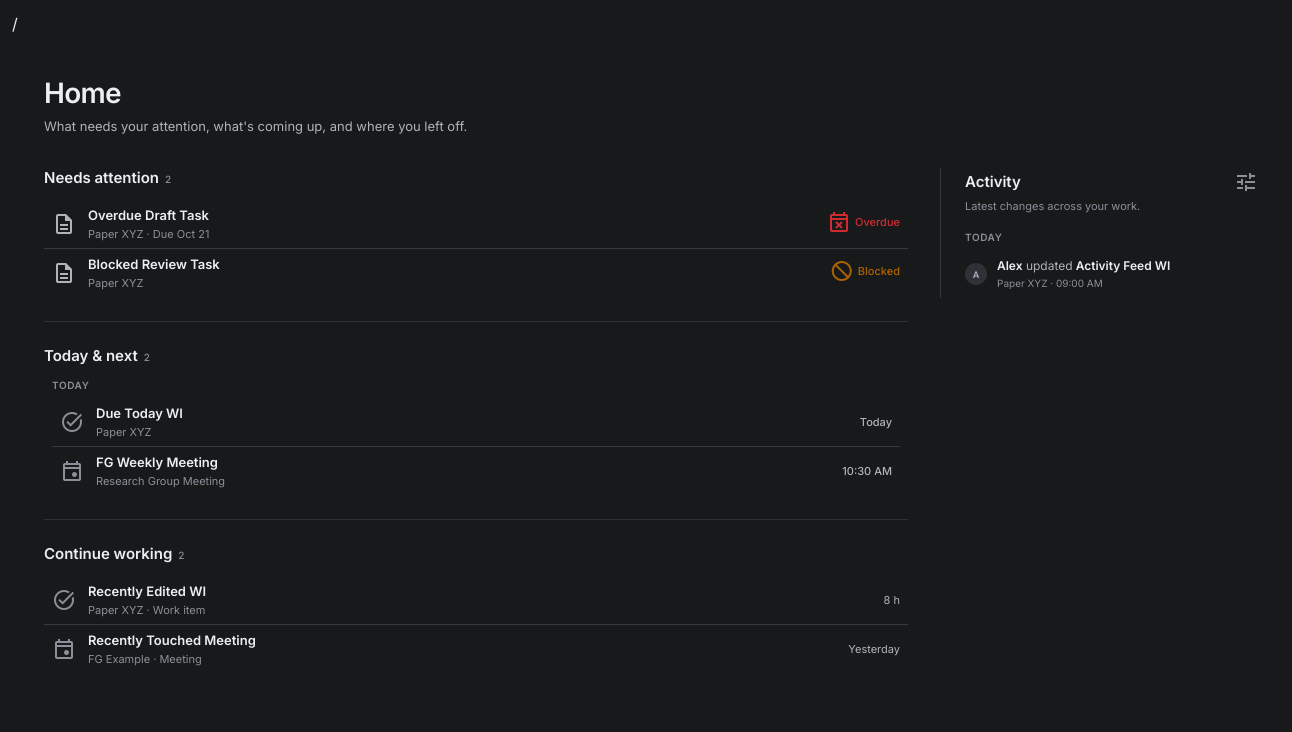
Test case: Activity independence › navigable Activity events keep their canonical targets
The width and height of the screenshot is (1292, 732).
Expected: the element showing "Alex updated Activity Feed WI" is shown, [997,258,1170,273]
What coordinates should you click on to do the following:
click the button "A Alex updated Activity Feed WI Paper XYZ · 09:00 AM"
I would click on:
 (1112, 274)
Its box is [965,250,1260,298].
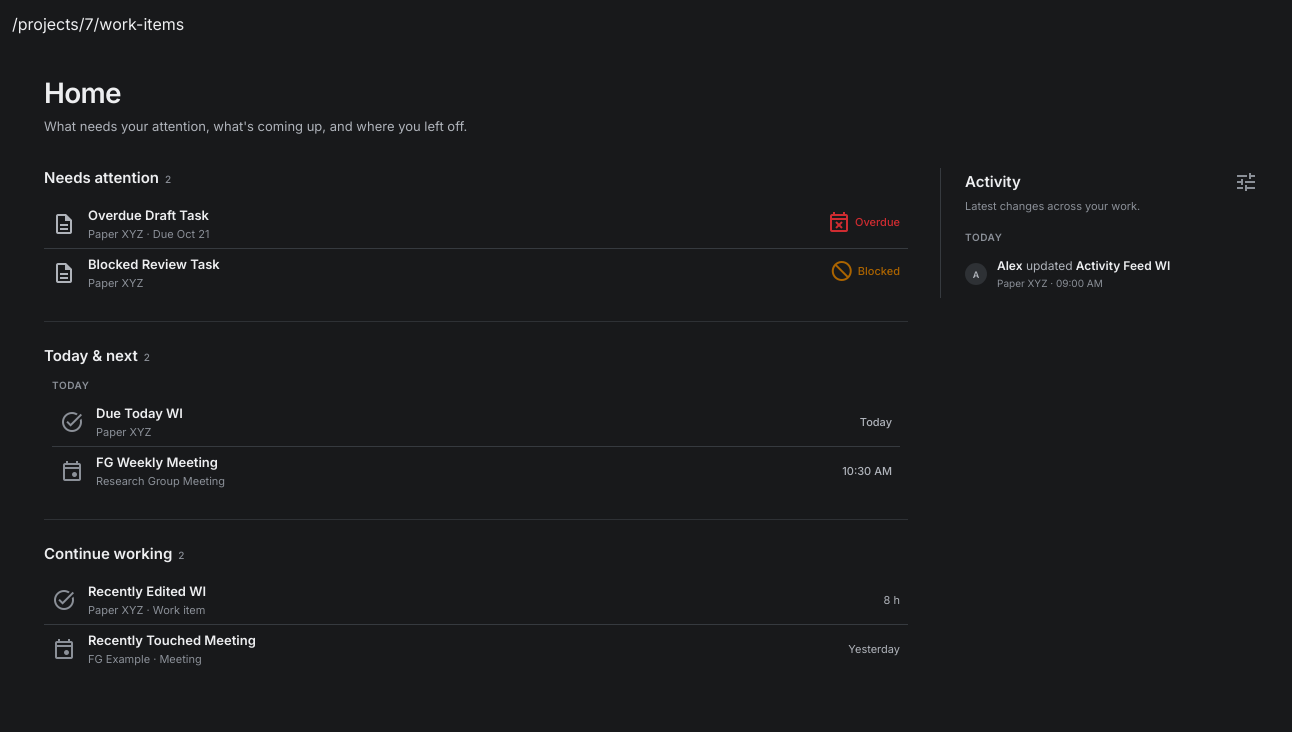
Now the text named "Current location" reads "/projects/7/work-items", box [12,14,184,34]
